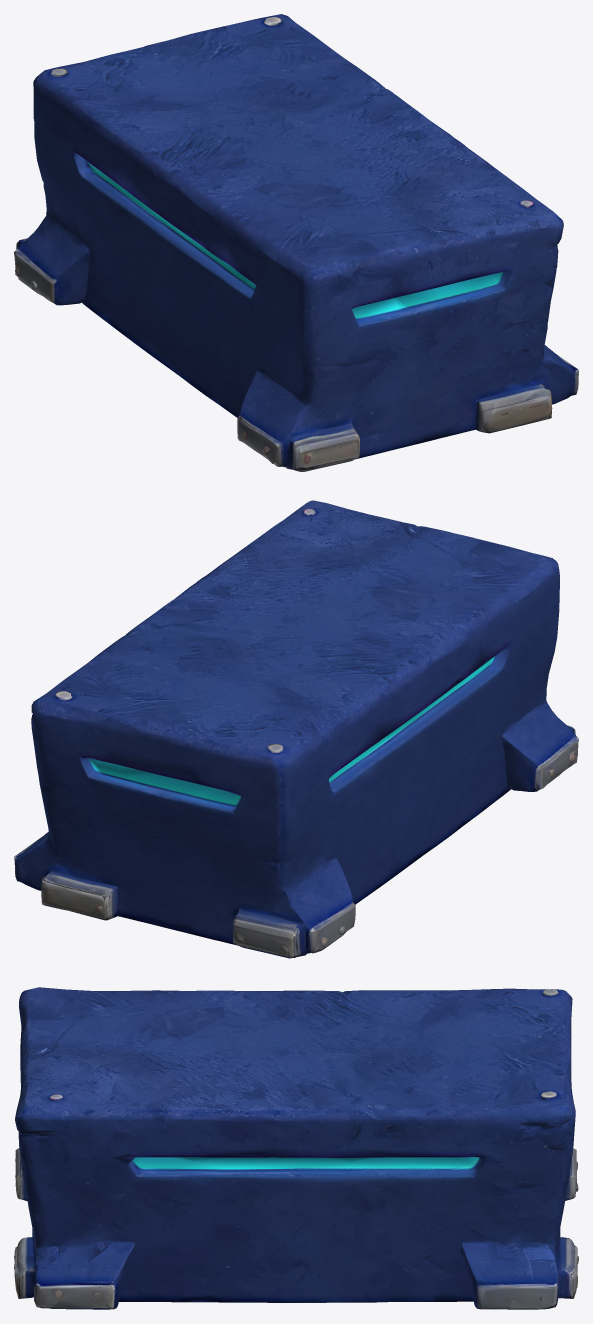
File: barrier.glb
3 renders of one model, top to bottom at view 1: azimuth 30°, elevation 25°; view 2: azimuth 150°, elevation 25°; view 3: azimuth 270°, elevation 25°, orthographic.
Visible parts, largest first — view 1: tripo_node_0a30fd3d-60f1-4371-a92d-748eebc8ebe1; view 2: tripo_node_0a30fd3d-60f1-4371-a92d-748eebc8ebe1; view 3: tripo_node_0a30fd3d-60f1-4371-a92d-748eebc8ebe1.
Boxes of the visible parts, x1=… form: tripo_node_0a30fd3d-60f1-4371-a92d-748eebc8ebe1: x1=14, y1=14, x2=578, y2=471; tripo_node_0a30fd3d-60f1-4371-a92d-748eebc8ebe1: x1=14, y1=500, x2=578, y2=958; tripo_node_0a30fd3d-60f1-4371-a92d-748eebc8ebe1: x1=14, y1=987, x2=578, y2=1309.
Size of the model in its own units: 0.6133 by 0.3853 by 0.9834.
1 material, 1 textured.
